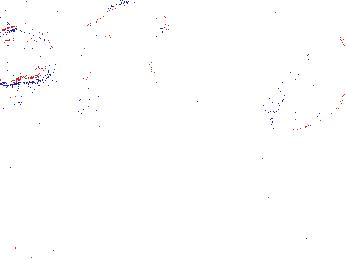moon jellyfish: (271, 29, 346, 133), (82, 2, 169, 75), (73, 42, 159, 111), (1, 25, 57, 85)
